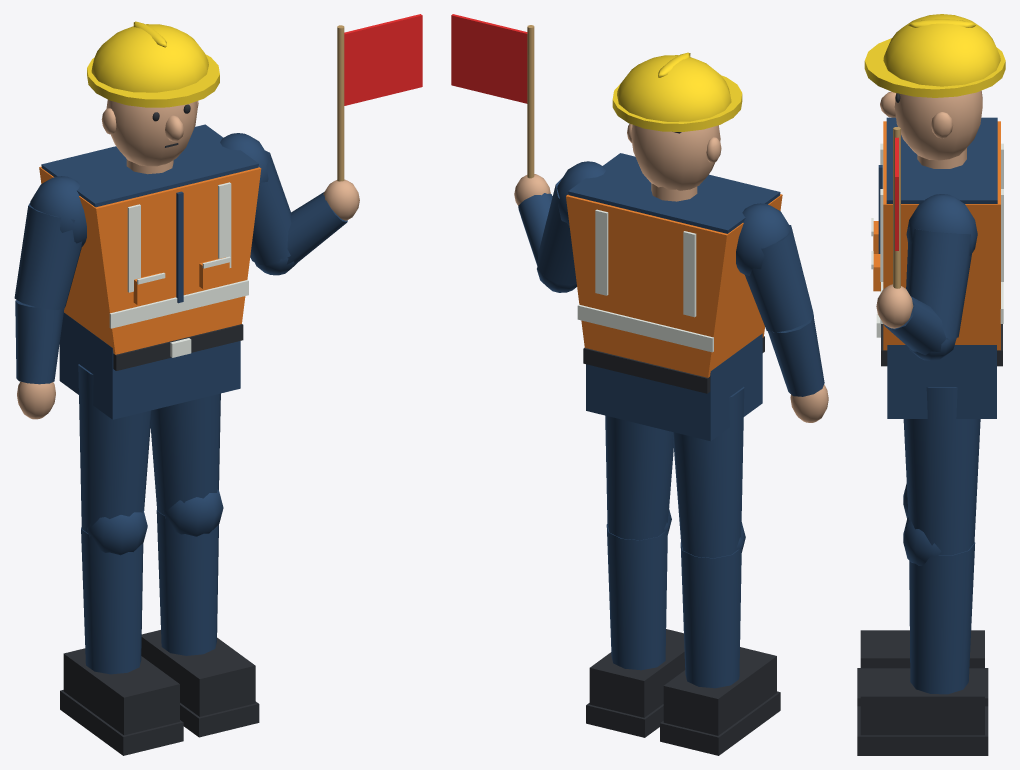
The model's file is guard.gltf.
The picture shows the model from 3 angles, left to right: view 1: azimuth 30°, elevation 25°; view 2: azimuth 150°, elevation 25°; view 3: azimuth 270°, elevation 25°; orthographic projection. The views are drawn at different scales.
Visible parts, largest first — view 1: Guard (feet at origin, Y up, facing +Z); view 2: Guard (feet at origin, Y up, facing +Z); view 3: Guard (feet at origin, Y up, facing +Z).
Boxes of the visible parts, x1,y1,x2,y2 form: Guard (feet at origin, Y up, facing +Z): (14, 14, 422, 755); Guard (feet at origin, Y up, facing +Z): (451, 14, 828, 755); Guard (feet at origin, Y up, facing +Z): (857, 14, 1005, 755).
Size of the model in its own units: 1.09 by 1.8 by 0.3455.
